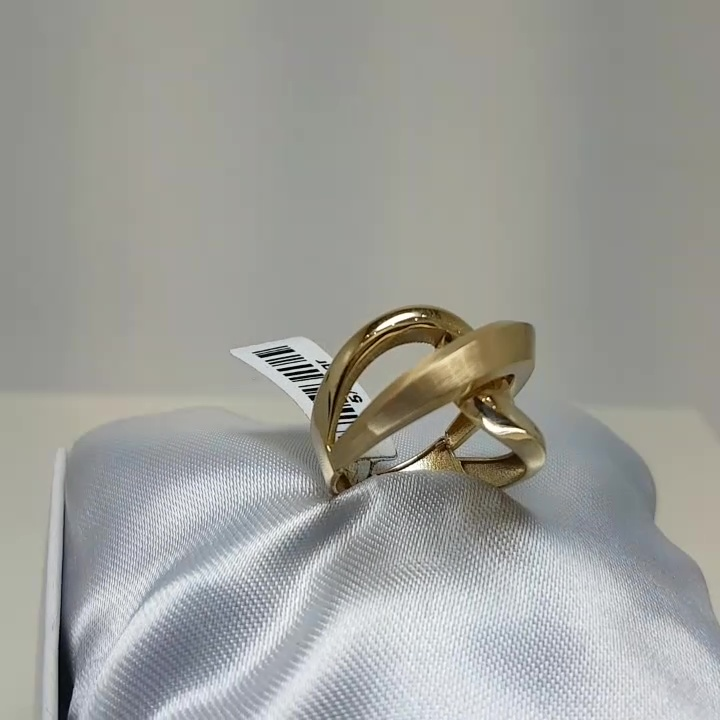Ring 3: (286, 287, 557, 529)
